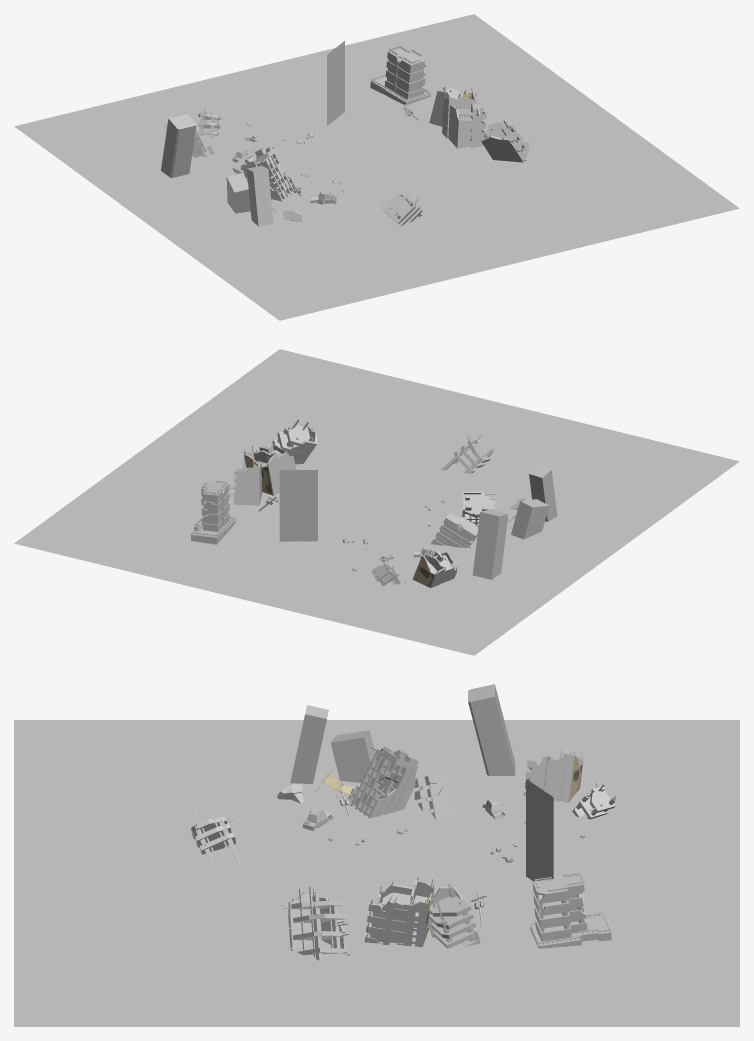
Rendered from Stage_1005_obj_01.fbx.
3 views of the same model, one above another, from view 1: azimuth 30°, elevation 25°; view 2: azimuth 150°, elevation 25°; view 3: azimuth 270°, elevation 25° (orthographic). The views are drawn at different scales.
Visible parts, largest first — view 1: Plane, Cube.017, Cube.003, Cube.104, Cube.086, Cube.266, Stage_1004_Tex_26, Cube, Cube.257, Cube.094, Cube.170; view 2: Plane, Stage_1004_Tex_26, Cube.104, Cube.017, Cube.003, Cube.086, Cube.170, Cube.223, Cube.114, Cube.094, Cube, Cube.257 (+1 smaller); view 3: Plane, Cube.017, Cube.003, Cube.266, Cube.086, Cube.104, Stage_1004_Tex_26, Cube.170, Cube.223, Cube, Cube.094, Cube.257 (+3 smaller).
Boxes of the visible parts, x1,y1,x2,y2 form: Plane: [14, 14, 739, 320]; Cube.017: [370, 45, 430, 104]; Cube.003: [442, 88, 486, 148]; Cube.104: [161, 113, 196, 177]; Cube.086: [481, 120, 529, 162]; Cube.266: [240, 146, 295, 201]; Stage_1004_Tex_26: [327, 41, 344, 125]; Cube: [247, 165, 273, 226]; Cube.257: [380, 194, 422, 225]; Cube.094: [226, 172, 250, 213]; Cube.170: [429, 86, 466, 126]; Plane: [14, 349, 739, 655]; Stage_1004_Tex_26: [279, 469, 317, 541]; Cube.104: [472, 509, 508, 579]; Cube.017: [190, 480, 235, 544]; Cube.003: [244, 444, 295, 495]; Cube.086: [267, 419, 317, 464]; Cube.170: [229, 457, 261, 505]; Cube.223: [412, 550, 457, 587]; Cube.114: [431, 512, 478, 548]; Cube.094: [511, 499, 548, 539]; Cube: [529, 465, 557, 521]; Cube.257: [441, 435, 494, 473]; Plane: [14, 720, 739, 1026]; Cube.017: [530, 872, 611, 948]; Cube.003: [364, 877, 434, 946]; Cube.266: [348, 746, 418, 818]; Cube.086: [281, 887, 351, 960]; Cube.104: [468, 684, 515, 775]; Stage_1004_Tex_26: [526, 779, 553, 881]; Cube.170: [427, 884, 480, 948]; Cube.223: [523, 749, 583, 802]; Cube: [290, 705, 328, 783]; Cube.094: [331, 730, 375, 782]; Cube.257: [190, 810, 242, 863].
Bounding box in the file's own units: 1377 × 305 × 1377.
